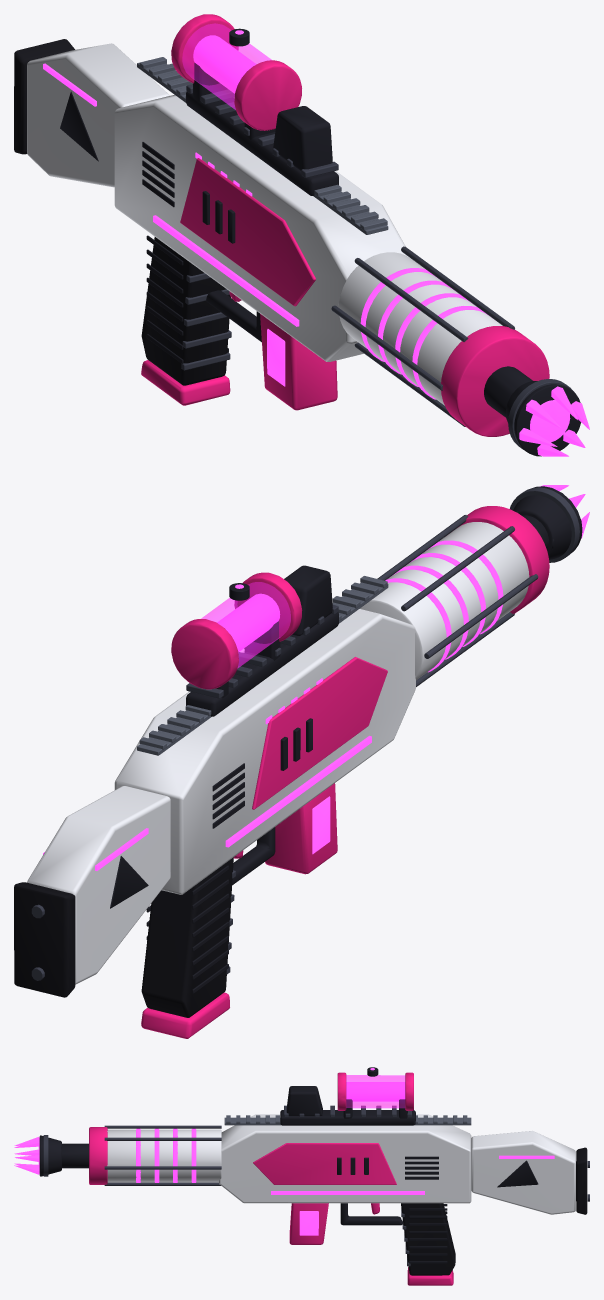
The model's file is PlasmaRifle.fbx.
3 views of the same model, one above another, from view 1: azimuth 30°, elevation 25°; view 2: azimuth 150°, elevation 25°; view 3: azimuth 270°, elevation 25° (orthographic). The views are drawn at different scales.
Visible parts, largest first — view 1: PlasmaRifle_Blaster_de_Plasma_Mesh, PlasmaRifle_Detalle_Plasma; view 2: PlasmaRifle_Blaster_de_Plasma_Mesh, PlasmaRifle_Detalle_Plasma; view 3: PlasmaRifle_Blaster_de_Plasma_Mesh, PlasmaRifle_Detalle_Plasma.
Boxes of the visible parts, <box> form: PlasmaRifle_Blaster_de_Plasma_Mesh: <box>14,14,580,456</box>; PlasmaRifle_Detalle_Plasma: <box>137,28,589,456</box>; PlasmaRifle_Blaster_de_Plasma_Mesh: <box>14,486,582,1038</box>; PlasmaRifle_Detalle_Plasma: <box>31,485,589,993</box>; PlasmaRifle_Blaster_de_Plasma_Mesh: <box>38,1072,587,1285</box>; PlasmaRifle_Detalle_Plasma: <box>14,1067,589,1263</box>.
Size of the model in its own units: 9.4 by 36 by 89.
